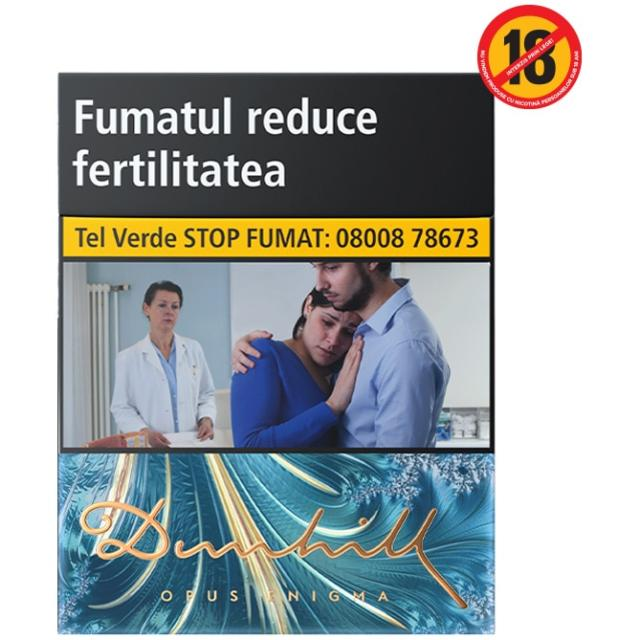dunhill: (56, 75, 498, 638)
